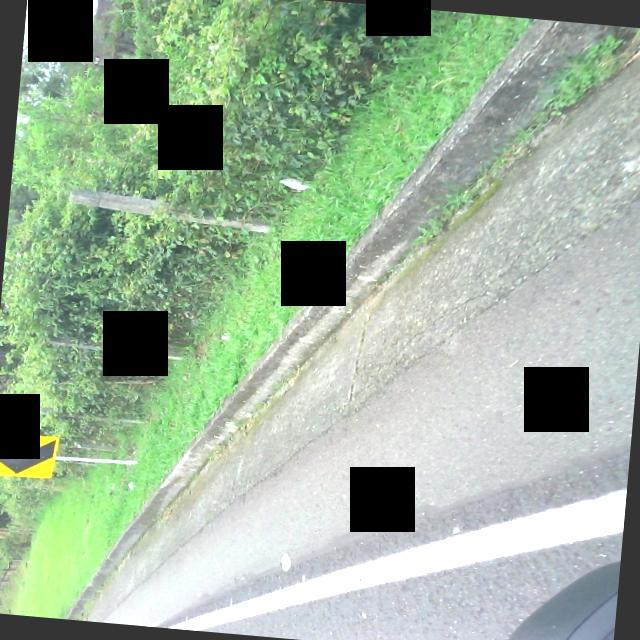DITCH: (61, 0, 640, 640), (66, 0, 640, 640)
